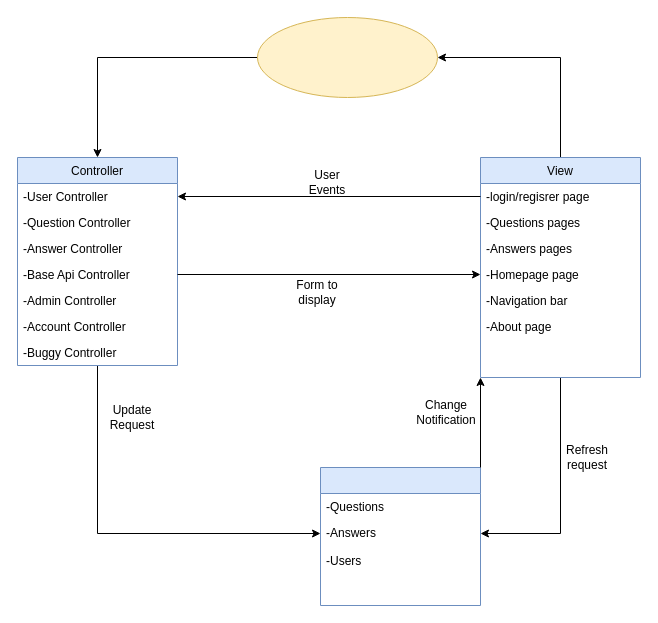
Some shapes in this 658 by 623 pixel diagram are drawn without their labels. Here are the shapes that lost their labels. From the top down, the box of each, then its label:
(256, 16, 438, 98): Browser
(320, 466, 480, 606): Model
